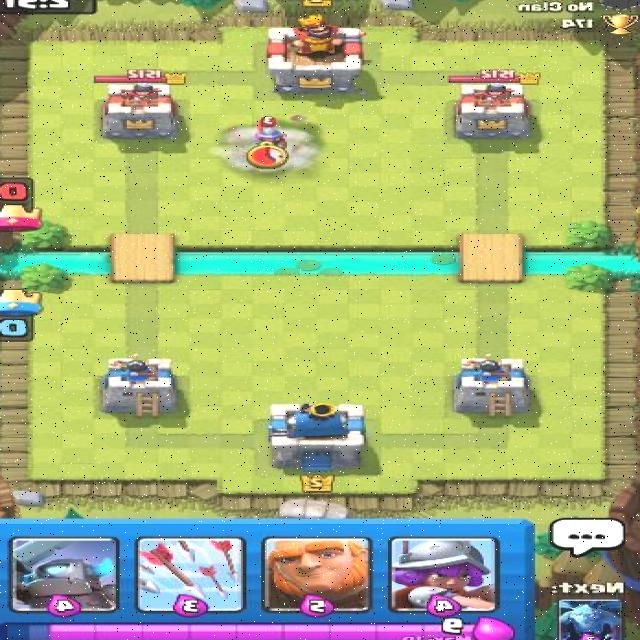Enemy-Musketeer: (252, 115, 289, 159)
